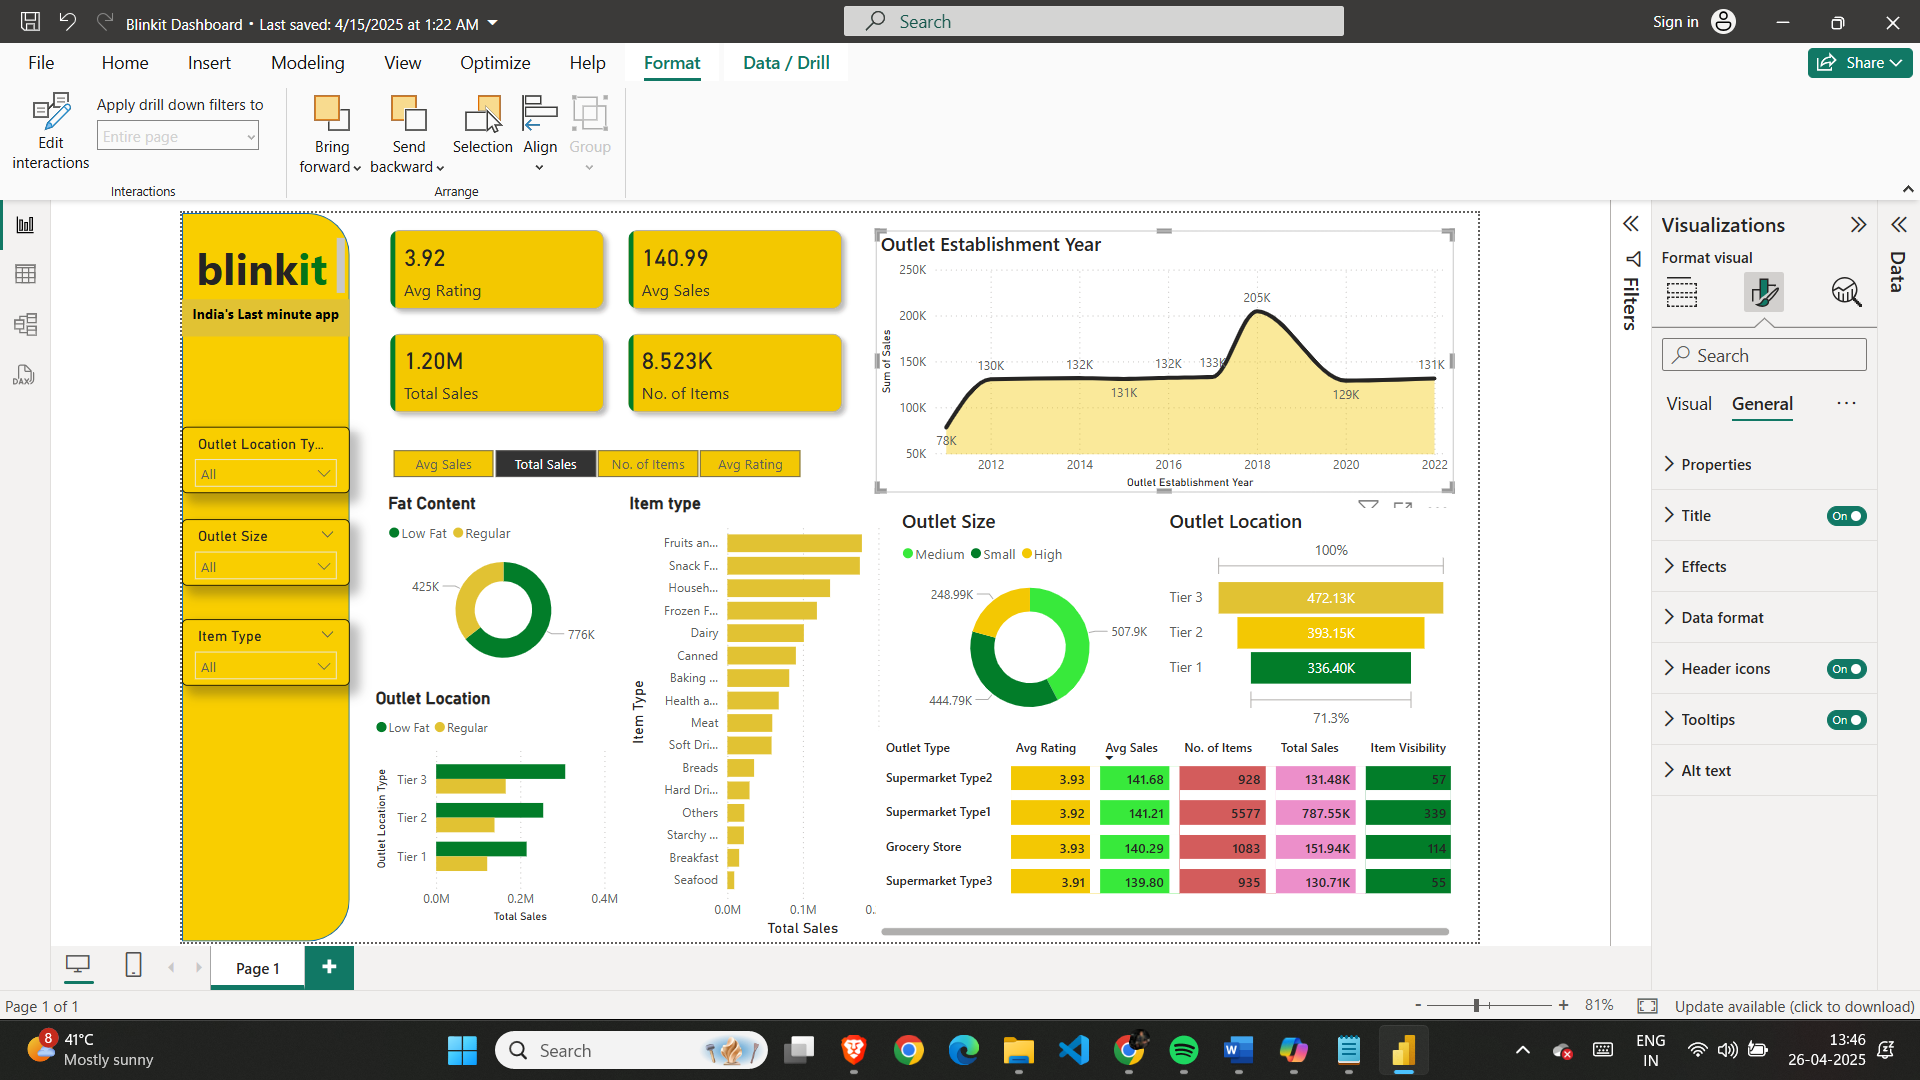

The dashboard page shown, as its layout file describes it:
{"tool":"powerbi","page":{"name":"Page 1","canvas":[1280,720],"ordinal":0},"visuals":[{"type":"shape","box":[0,0,165.7,720],"z":0},{"type":"textbox","box":[0,20,166,65],"z":1000},{"type":"cardVisual","fields":{"Data":["BlinkIT Grocery Data.Avg Rating","BlinkIT Grocery Data.Avg Sales","BlinkIT Grocery Data.Total Sales","BlinkIT Grocery Data.No. of Items"]},"box":[188.3,0,481.7,215],"z":2000},{"type":"textbox","box":[0,85.7,165.7,37.1],"z":3000},{"type":"donutChart","title":"Fat Content","fields":{"Category":["BlinkIT Grocery Data.Item Fat Content"],"Y":["BlinkIT Grocery Data.Total Sales"]},"box":[198.9,276.7,237.8,182.2],"z":4000},{"type":"slicer","fields":{"Values":["Metrices.Metrices"]},"box":[182.2,226.7,452.2,37.8],"z":5000},{"type":"clusteredBarChart","title":" Outlet Location ","fields":{"Category":["BlinkIT Grocery Data.Outlet Location Type"],"Series":["BlinkIT Grocery Data.Item Fat Content"],"Y":["BlinkIT Grocery Data.Total Sales"]},"box":[186.7,468.9,250,236.7],"z":5001},{"type":"barChart","title":"Item type","fields":{"Category":["BlinkIT Grocery Data.Item Type"],"Y":["BlinkIT Grocery Data.Total Sales"]},"box":[436.7,276.7,270,443.3],"z":5002},{"type":"lineChart","title":" Outlet Establishment Year","fields":{"Y":["Sum(BlinkIT Grocery Data.Sales)"],"Category":["BlinkIT Grocery Data.Outlet Establishment Year"]},"box":[685,16.7,570,260],"z":5003},{"type":"donutChart","title":" Outlet Size","fields":{"Category":["BlinkIT Grocery Data.Outlet Size"],"Y":["BlinkIT Grocery Data.Total Sales"]},"box":[706.7,291.1,263.3,221.1],"z":5004},{"type":"funnel","title":"Outlet Location ","fields":{"Category":["BlinkIT Grocery Data.Outlet Location Type"],"Y":["BlinkIT Grocery Data.Total Sales"]},"box":[970,291.1,285.6,222.2],"z":5005},{"type":"pivotTable","fields":{"Values":["BlinkIT Grocery Data.Avg Rating","BlinkIT Grocery Data.Avg Sales","BlinkIT Grocery Data.No. of Items","BlinkIT Grocery Data.Total Sales","Sum(BlinkIT Grocery Data.Item Visibility)"],"Rows":["BlinkIT Grocery Data.Outlet Type"]},"box":[685,511.7,573.3,208.3],"z":5006}]}

Visuals, with their boxes on the page's 1280x720 design canvas (x1, y1, x2, y2). These are canvas units, not pixel positions in the 1920x1080 screenshot, which may show the page scaled, cropped or inside an application window:
shape: <bbox>0, 0, 166, 720</bbox>
textbox: <bbox>0, 20, 166, 85</bbox>
cardVisual - BlinkIT Grocery Data.Avg Rating x BlinkIT Grocery Data.Avg Sales: <bbox>188, 0, 670, 215</bbox>
textbox: <bbox>0, 86, 166, 123</bbox>
"Fat Content" donutChart: <bbox>199, 277, 437, 459</bbox>
slicer - Metrices.Metrices: <bbox>182, 227, 634, 264</bbox>
" Outlet Location " clusteredBarChart: <bbox>187, 469, 437, 706</bbox>
"Item type" barChart: <bbox>437, 277, 707, 720</bbox>
" Outlet Establishment Year" lineChart: <bbox>685, 17, 1255, 277</bbox>
" Outlet Size" donutChart: <bbox>707, 291, 970, 512</bbox>
"Outlet Location " funnel: <bbox>970, 291, 1256, 513</bbox>
pivotTable - BlinkIT Grocery Data.Avg Rating x BlinkIT Grocery Data.Avg Sales: <bbox>685, 512, 1258, 720</bbox>
